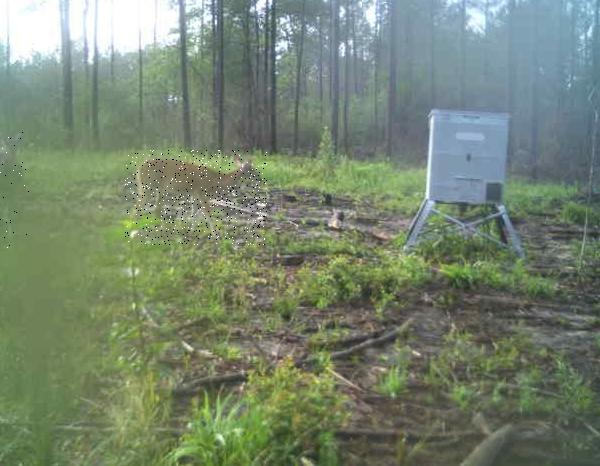Deer: (125, 151, 267, 246), (0, 132, 30, 252)
